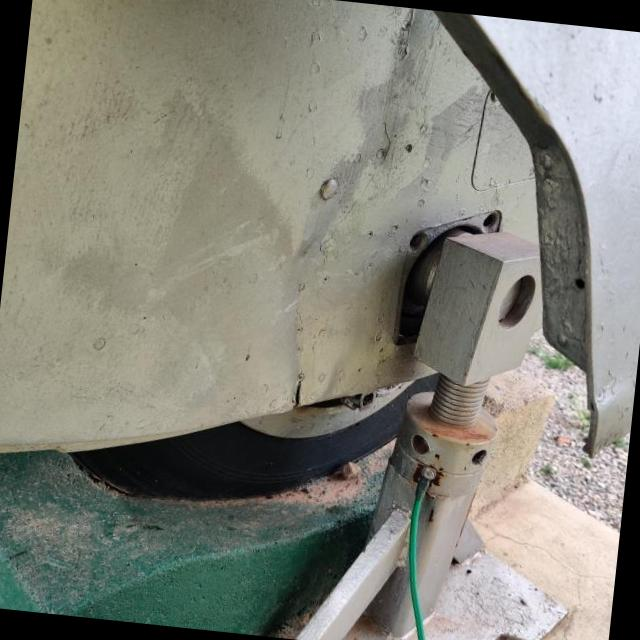Crack: (294, 374, 304, 407)
